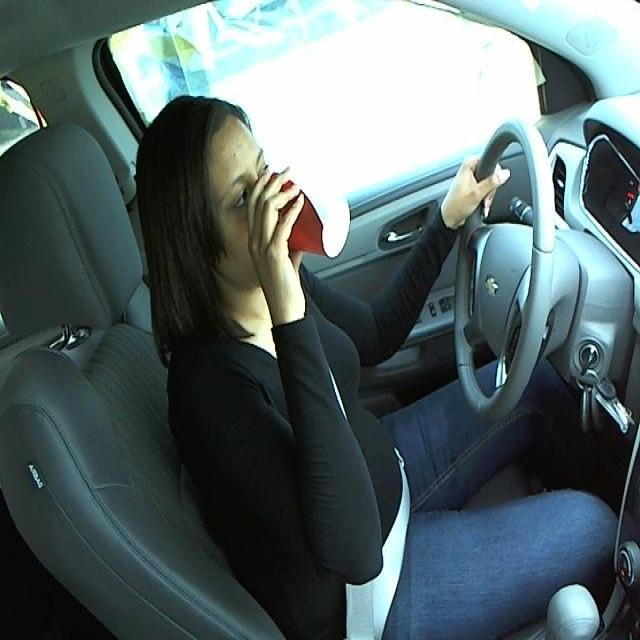Seatbelt: (255, 178, 350, 254)
